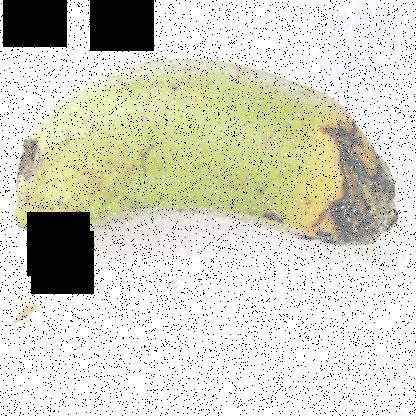rotten: (275, 100, 415, 260), (2, 122, 49, 190)
